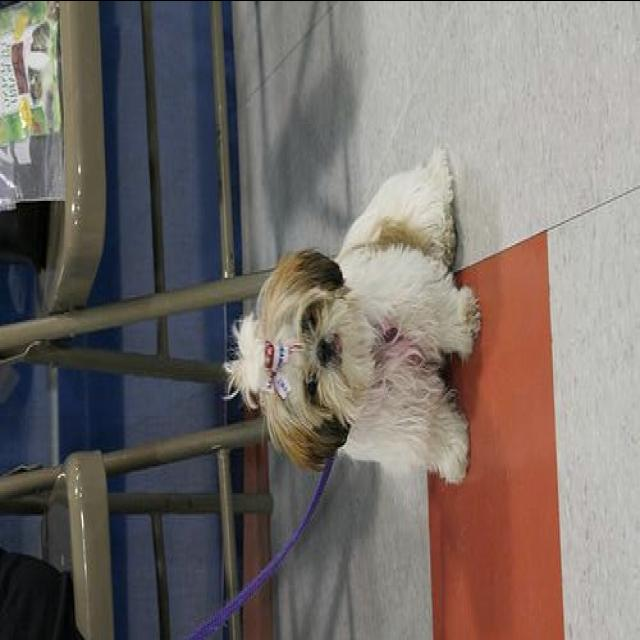pekinese: (224, 144, 484, 484)
